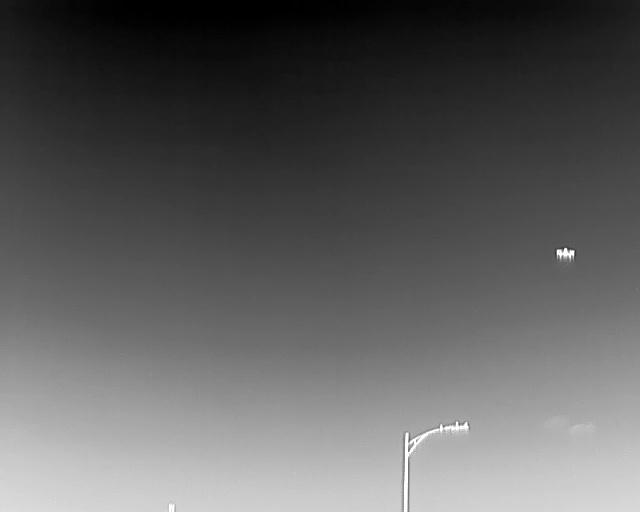fpv-drone: (556, 247, 574, 262)
